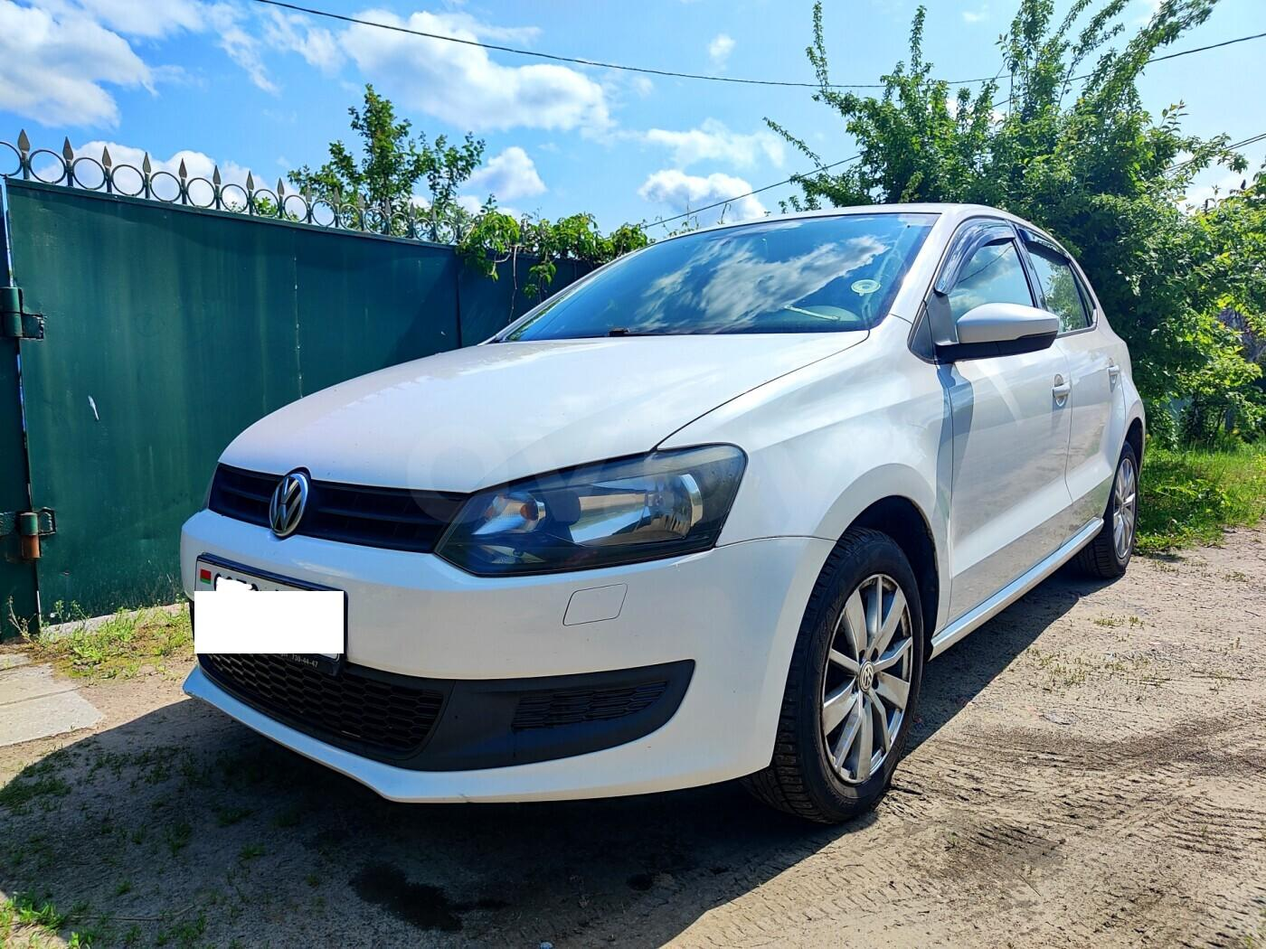Polo_2009-2015: (173, 185, 1160, 854)
